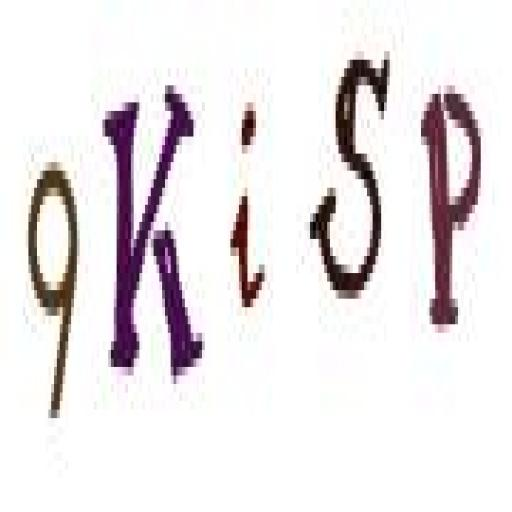9: (22, 143, 85, 439)
K: (100, 68, 208, 396)
P: (410, 74, 486, 358)
S: (307, 35, 396, 347)
i: (226, 93, 274, 332)
